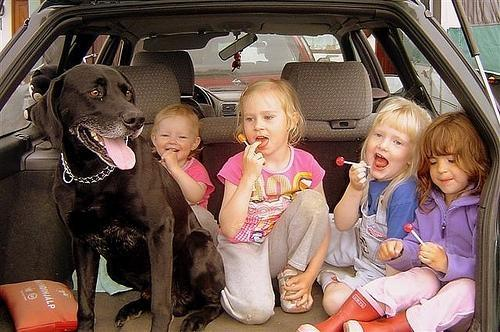car: (187, 31, 315, 89)
